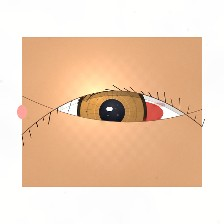hemorrhage_spot: (89, 79, 175, 147)
